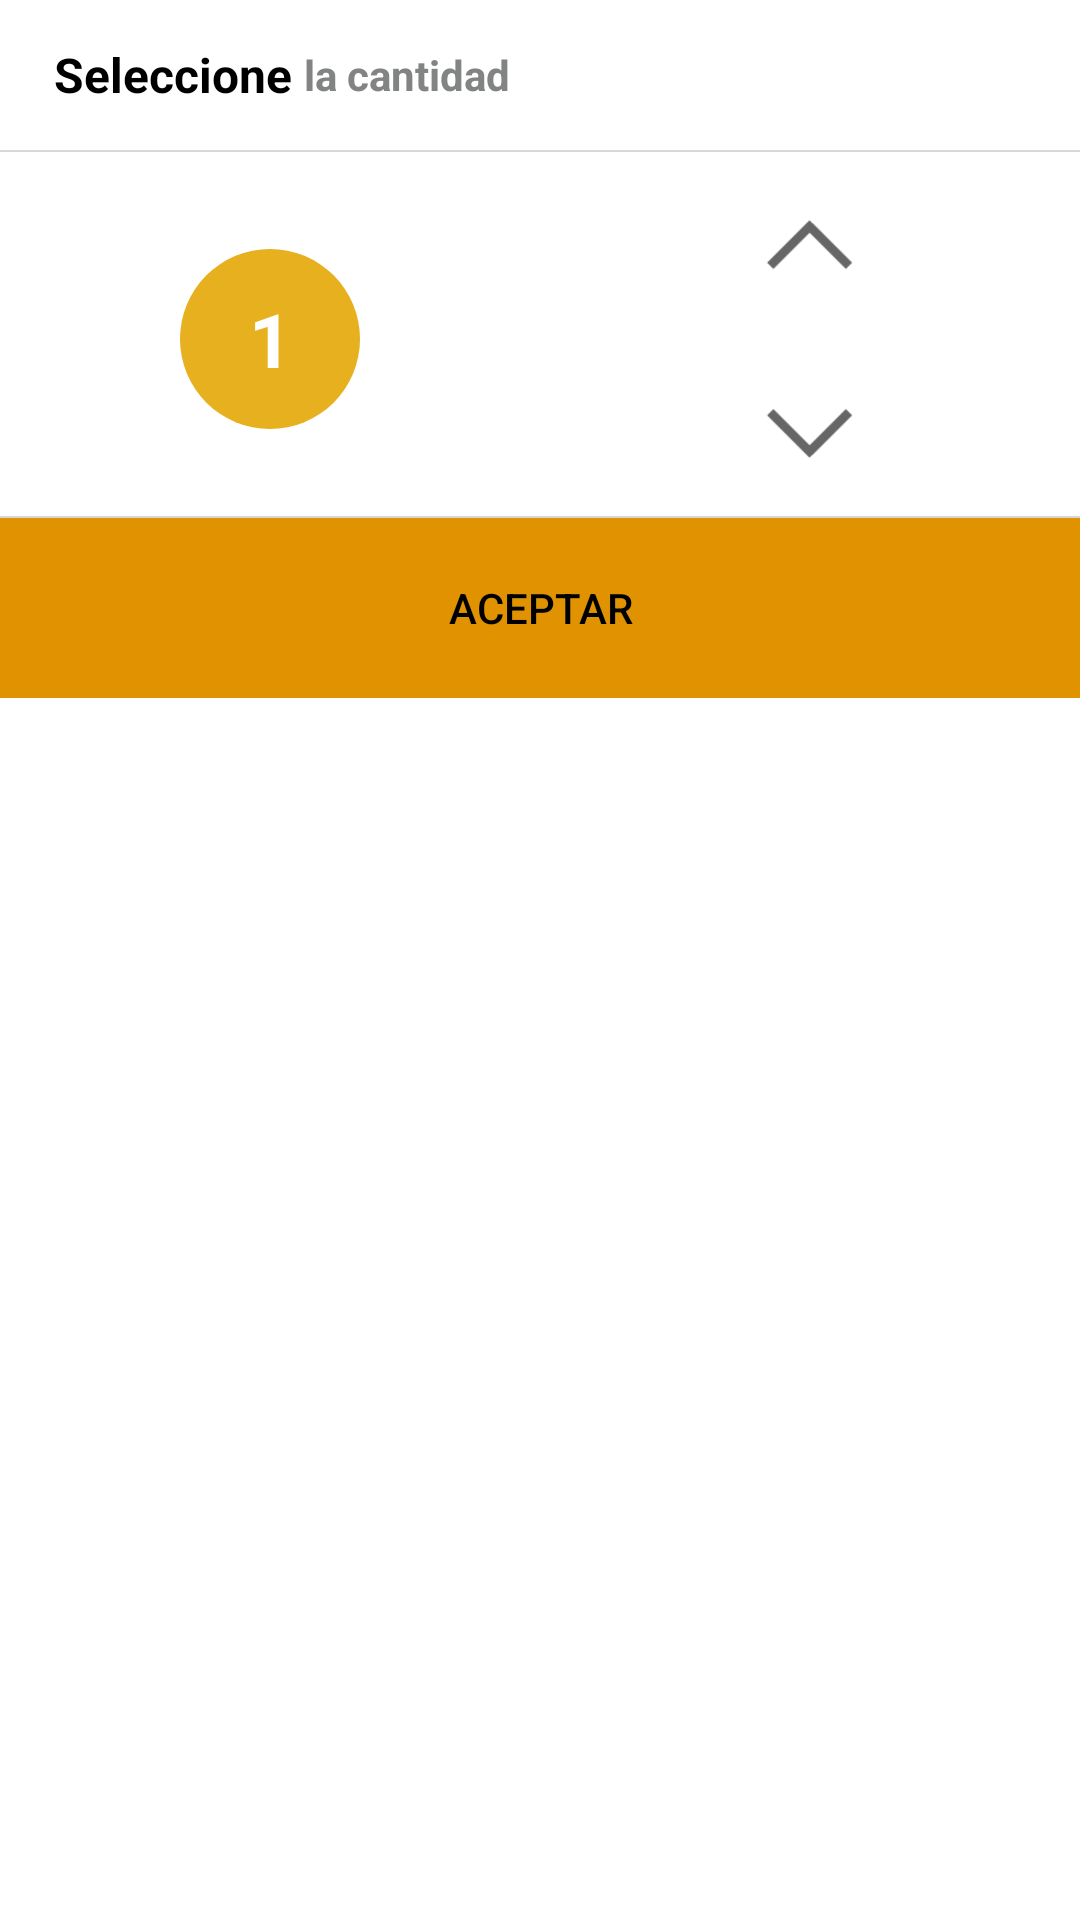

Named icons in this screenshot (1080x1920) and their bounding boxes, (x1, y1, x2, y2):
collapse: (767, 220, 852, 269)
expand: (767, 409, 852, 458)
